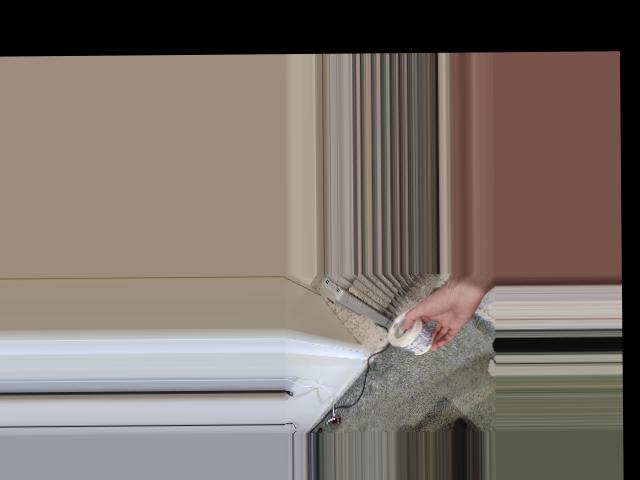cotage: (389, 312, 437, 355)
